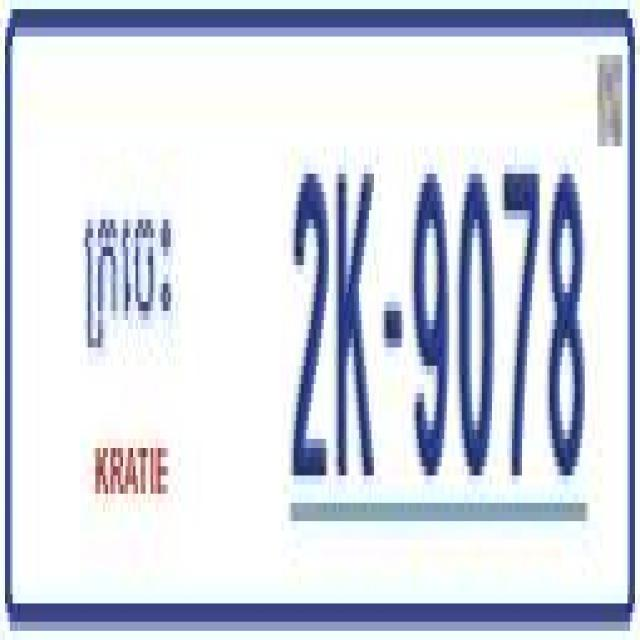Kratie: (83, 192, 177, 368)
